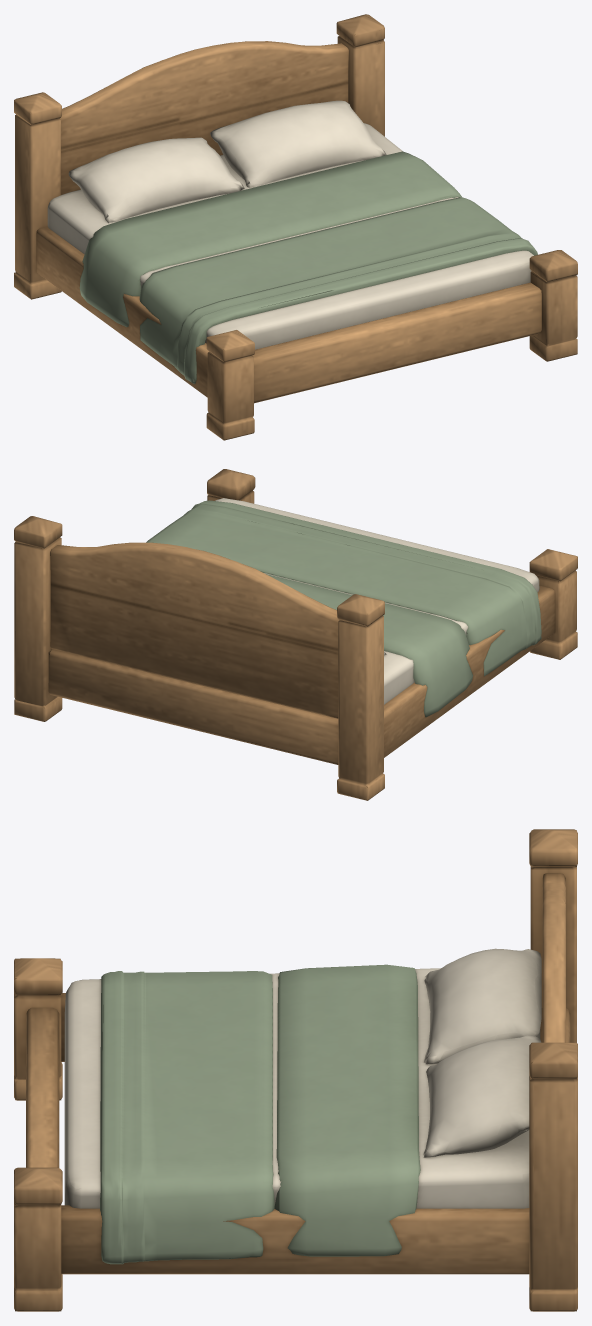
File: double-pony-bed.glb
3 renders of one model, top to bottom at view 1: azimuth 30°, elevation 25°; view 2: azimuth 150°, elevation 25°; view 3: azimuth 270°, elevation 25°, orthographic. The views are drawn at different scales.
Parts seen in each view (by area): view 1: double-pony-bed; view 2: double-pony-bed; view 3: double-pony-bed.
Boxes of the visible parts, bbox=[...] form: double-pony-bed: bbox=[14, 14, 577, 440]; double-pony-bed: bbox=[14, 469, 577, 800]; double-pony-bed: bbox=[14, 829, 577, 1311].
Bounding box in the file's own units: 0.9707 × 0.5215 × 0.998.
1 material, 1 textured.
